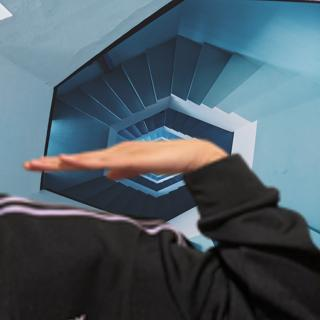Wait: (14, 125, 224, 181)
